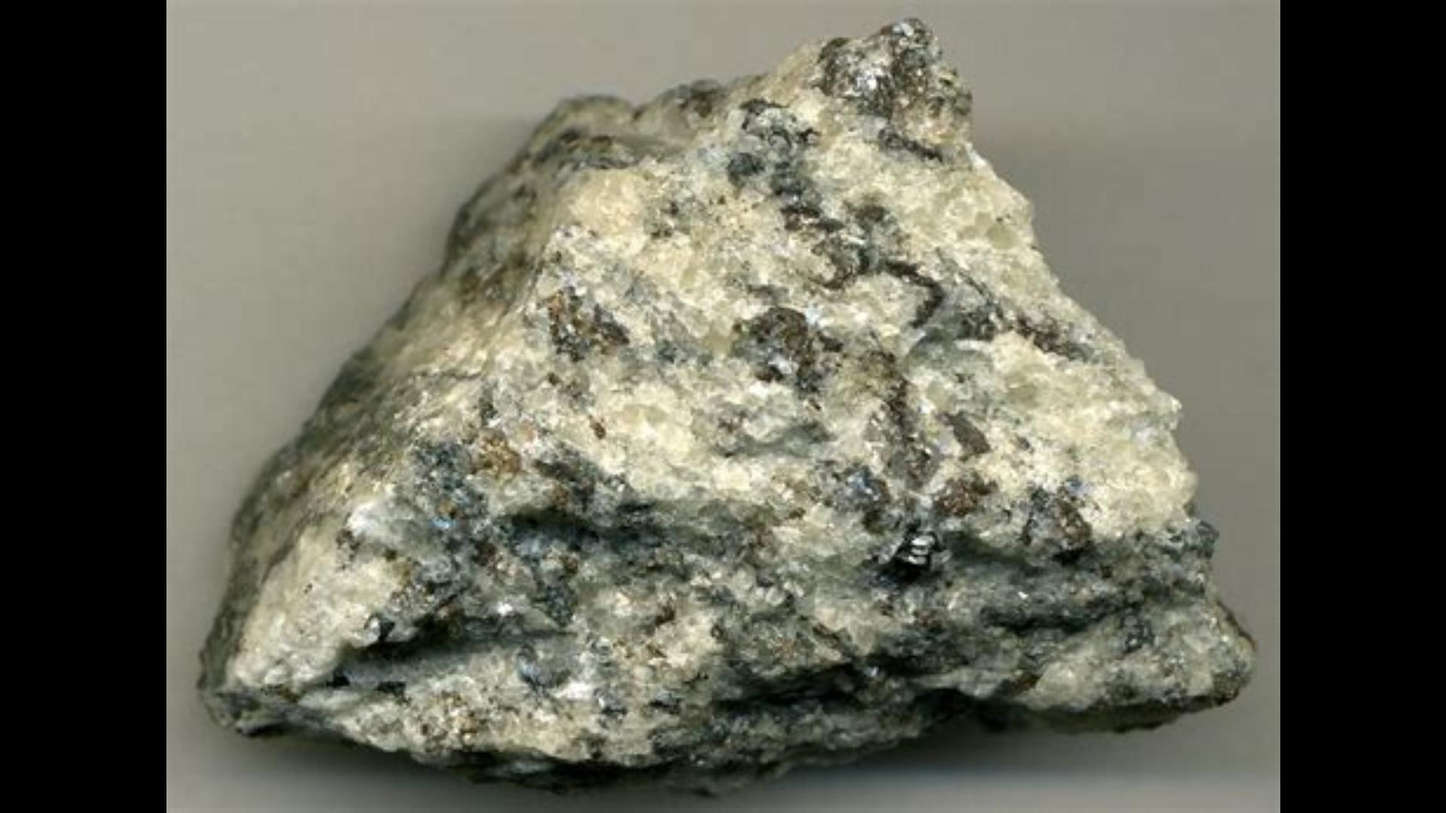rock: (201, 21, 1249, 766)
